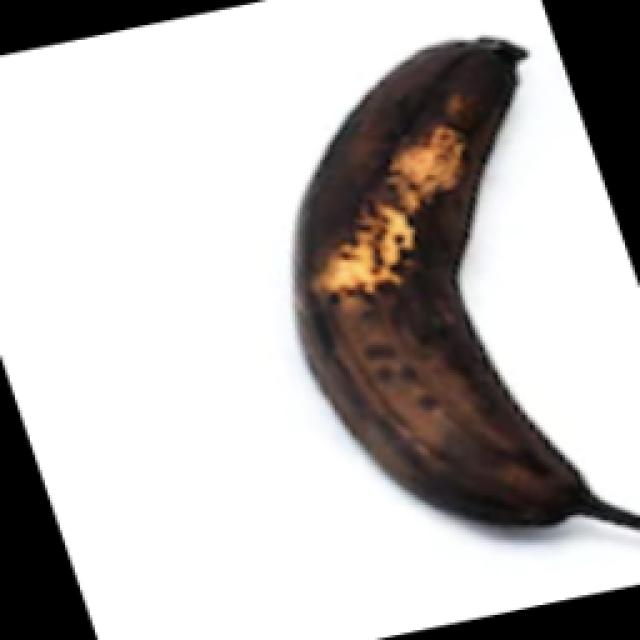Rotten_Banana: (306, 18, 591, 584)
